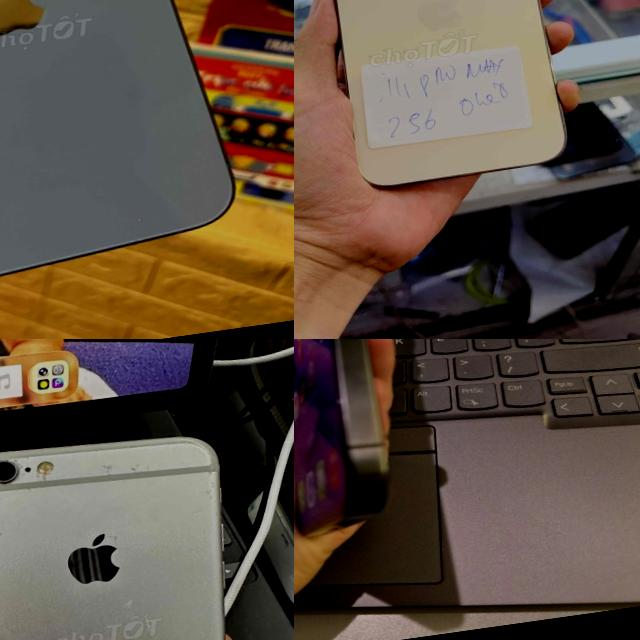scratch: (0, 411, 235, 521), (0, 523, 9, 547)
